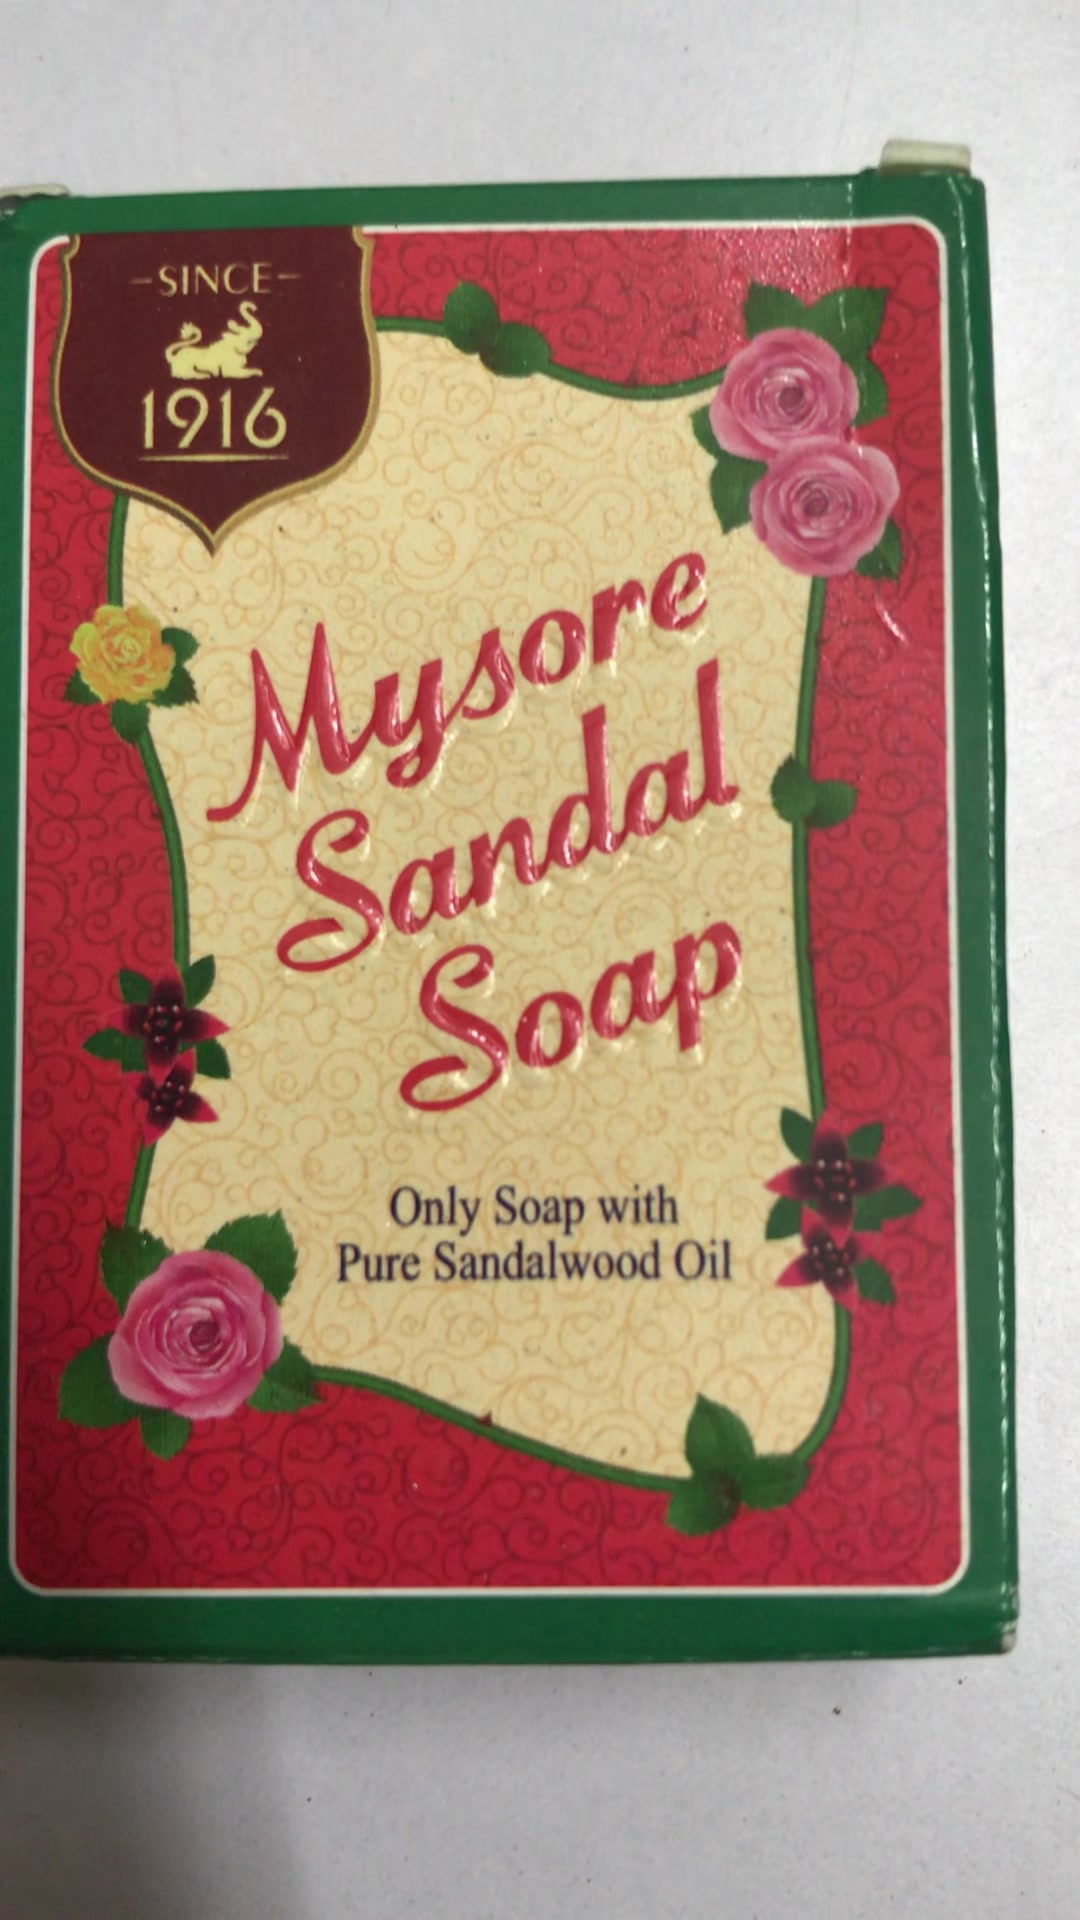mysore sandal soap: (9, 189, 1029, 1665)
